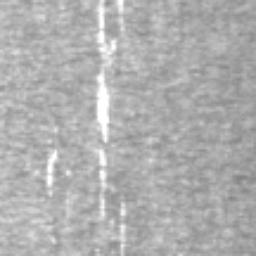White rust: (97, 73, 109, 142), (47, 149, 57, 186), (97, 6, 104, 43), (98, 149, 106, 166), (117, 0, 123, 11), (100, 170, 106, 180)
